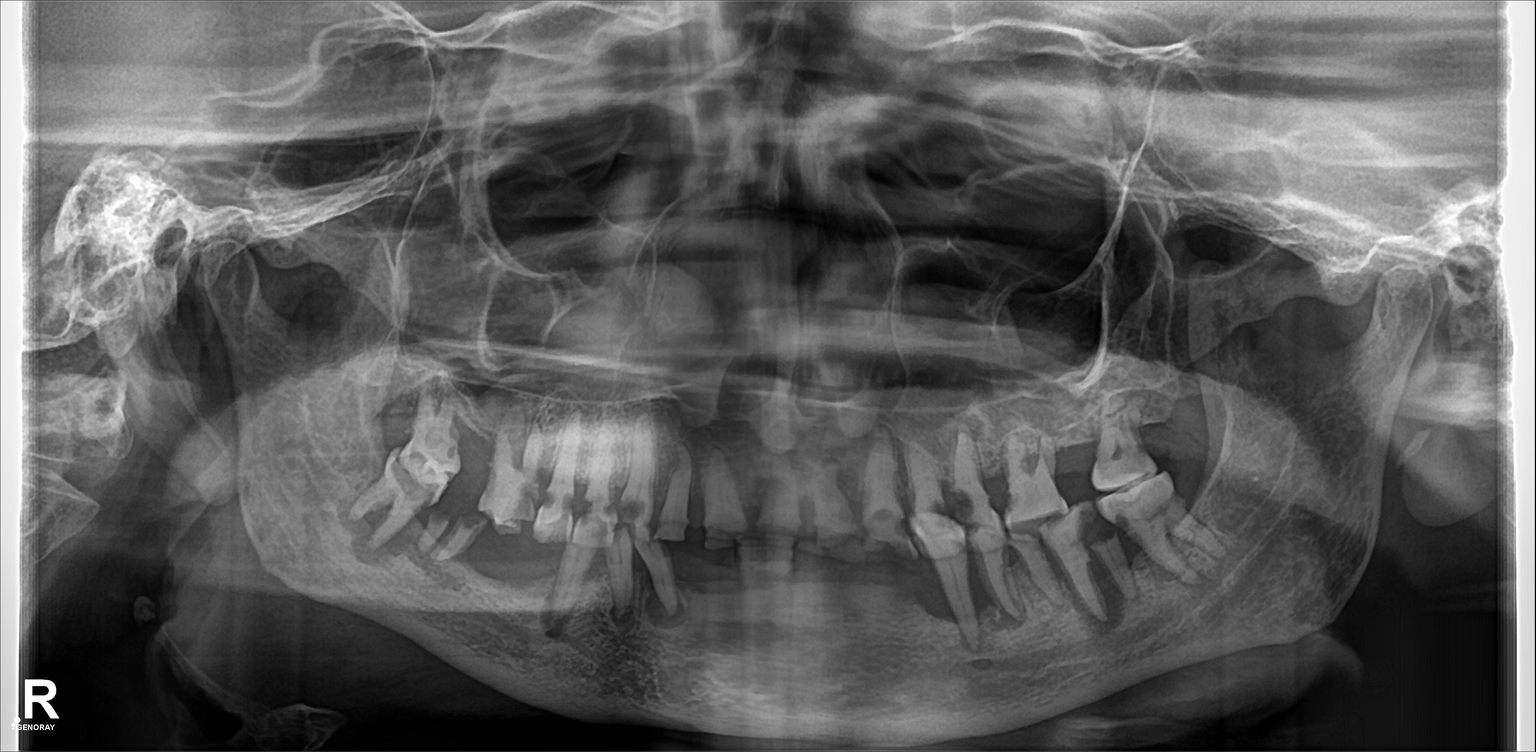Dental Caries: (933, 477, 980, 523), (1080, 508, 1117, 545), (521, 463, 556, 500), (611, 493, 642, 523), (566, 495, 593, 521)
Missing Tooth: (683, 530, 745, 631), (1050, 417, 1094, 499), (1158, 391, 1199, 477), (454, 411, 496, 489), (380, 374, 423, 450), (911, 564, 948, 643), (875, 557, 906, 651), (521, 530, 554, 617), (490, 530, 517, 612)
Periapical Lesion: (335, 463, 420, 565), (635, 584, 705, 657)
Retained Root: (425, 501, 480, 567)
